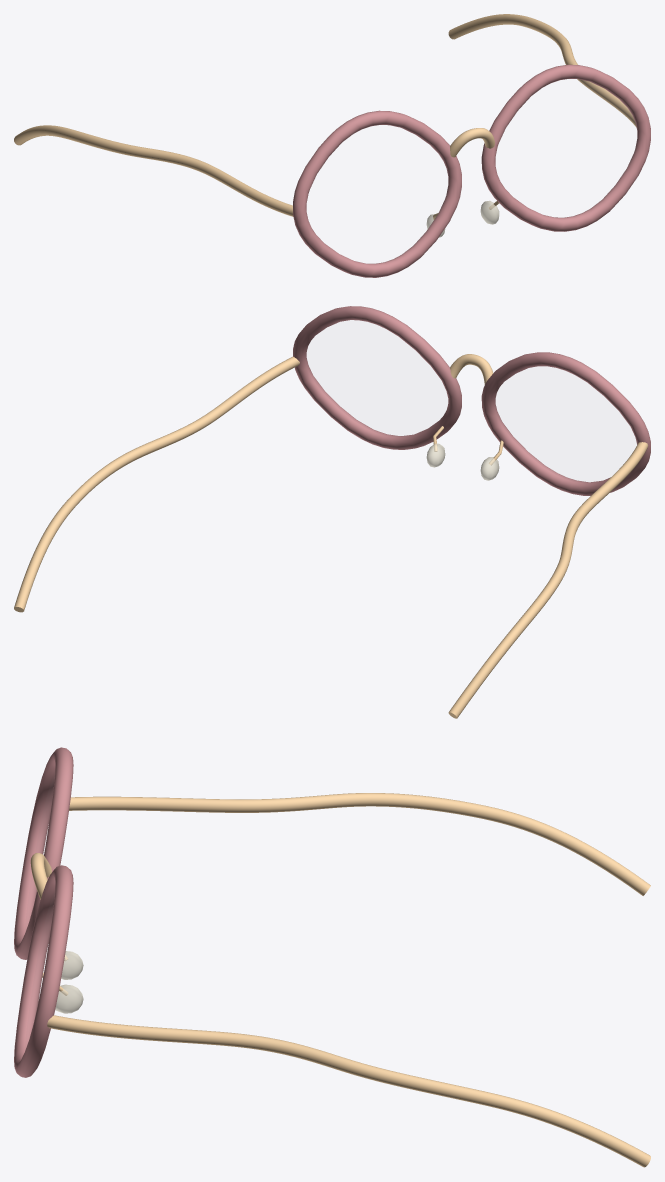
Rendered from glasses.glb.
3 views of the same model, one above another, from view 1: azimuth 30°, elevation 25°; view 2: azimuth 150°, elevation 25°; view 3: azimuth 270°, elevation 25° (orthographic). The views are drawn at different scales.
Visible parts, largest first — view 1: Accessory_glasses; view 2: Accessory_glasses; view 3: Accessory_glasses.
Boxes of the visible parts, x1,y1,x2,y2 form: Accessory_glasses: [14, 14, 650, 277]; Accessory_glasses: [14, 306, 650, 718]; Accessory_glasses: [14, 747, 650, 1167].
Bounding box in the file's own units: 1.21 × 0.4168 × 1.12.
